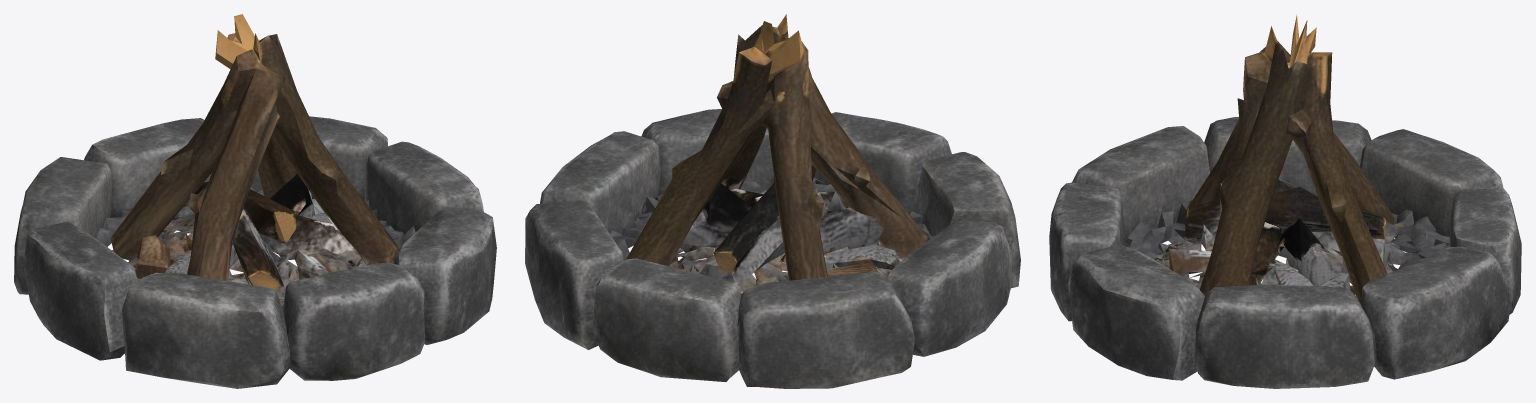
Rendered from logs.glb.
3 views of the same model, side by side, from view 1: azimuth 30°, elevation 25°; view 2: azimuth 150°, elevation 25°; view 3: azimuth 270°, elevation 25° (orthographic). The views are drawn at different scales.
Visible parts, largest first — view 1: logs; view 2: logs; view 3: logs.
Part boxes in pixels (x1=…): logs: x1=14, y1=14, x2=496, y2=388; logs: x1=525, y1=14, x2=1020, y2=388; logs: x1=1049, y1=15, x2=1521, y2=388.
Size of the model in its own units: 0.7024 by 0.45 by 0.7074.
Materials: 1 (1 with a texture image).
